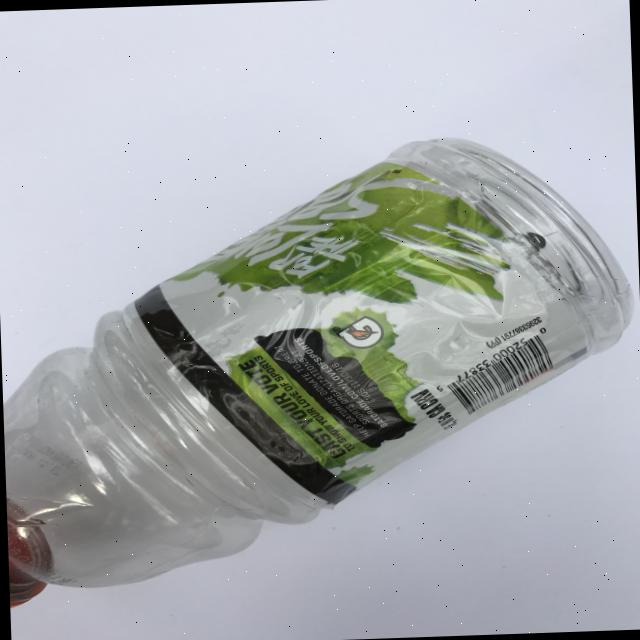plastic: (0, 129, 640, 607)
